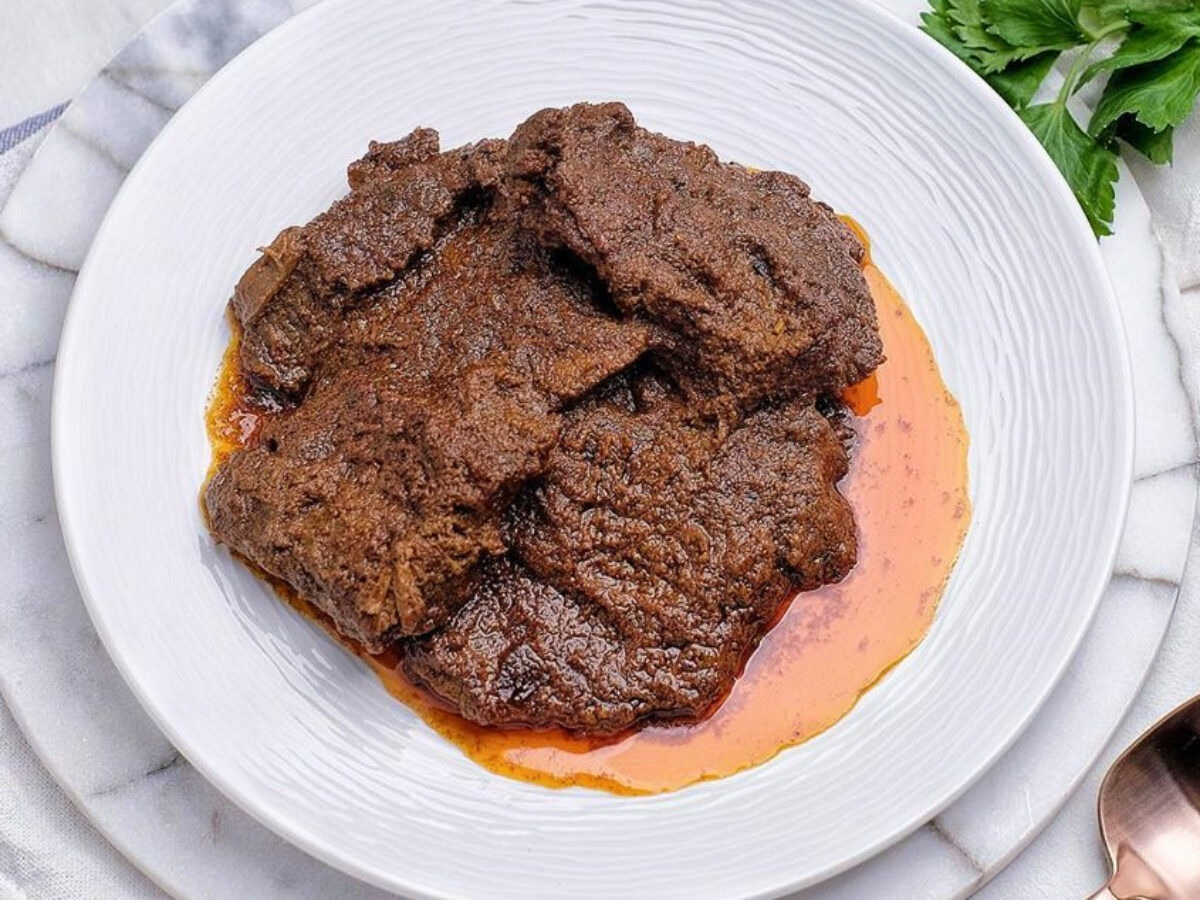rendang: (229, 127, 869, 699)
